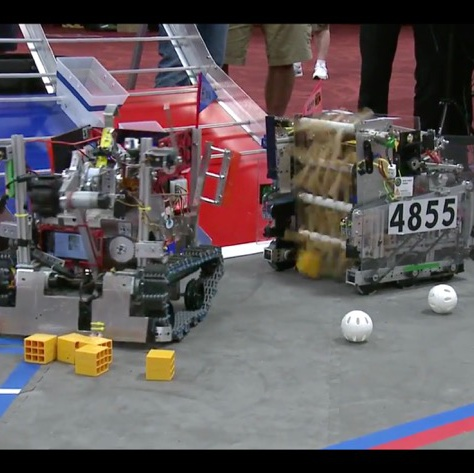robot: (0, 71, 235, 345), (258, 103, 472, 298)
